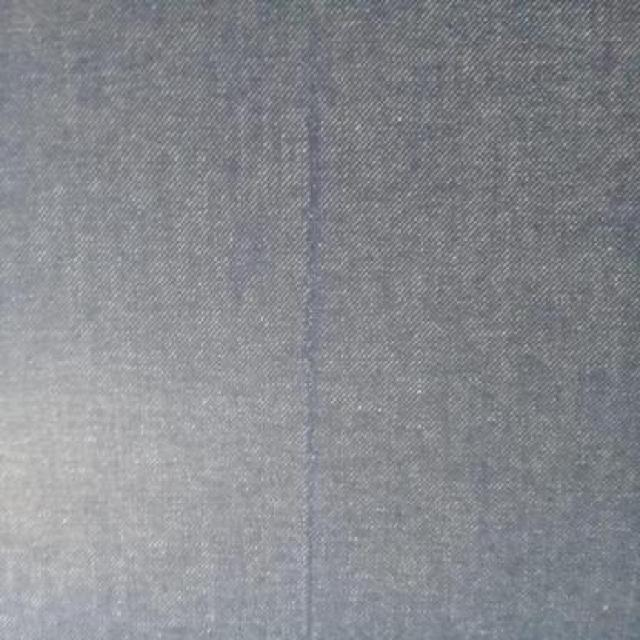pulled_or_thick_thread: (300, 81, 325, 639)
